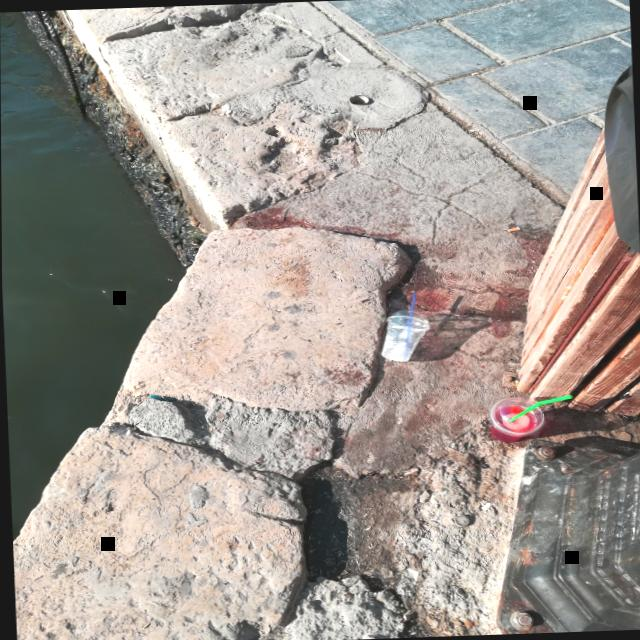Cigarette: (505, 225, 519, 231), (470, 70, 480, 75), (513, 379, 517, 390)
Disposable plastic cup: (486, 395, 543, 441), (379, 308, 428, 360)
Plastic lid: (487, 395, 543, 435), (385, 308, 428, 326)
Plastic straw: (507, 393, 571, 420), (403, 291, 415, 352)
